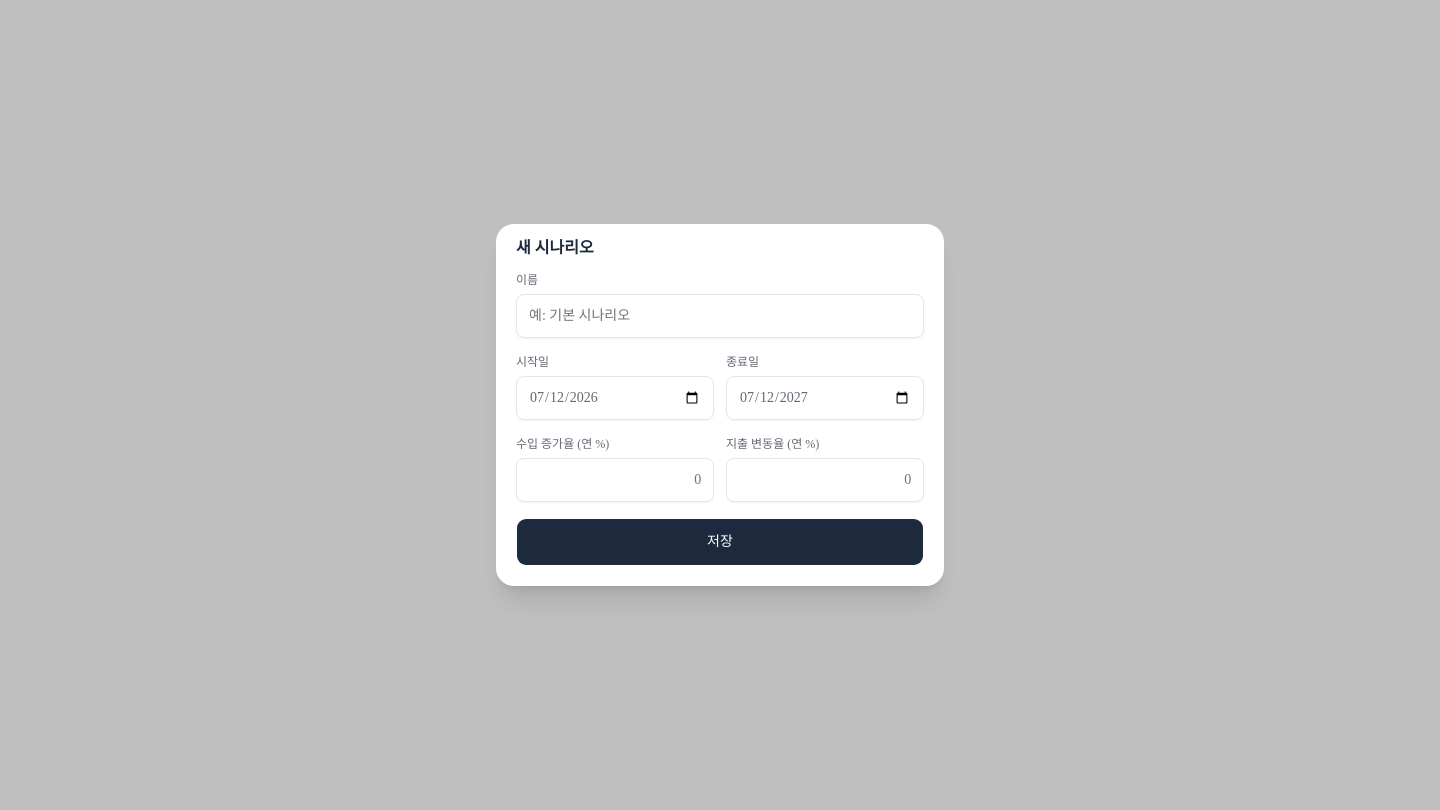
Test case: ScenarioEditorSheet 폼 파싱 › 숫자 외 문자는 증가율 입력에서 걸러진다
This screenshot has width=1440, height=810.
In the field with test id "scenario-income-rate-input": (615, 480) [516,458,714,502], type "abc3%"
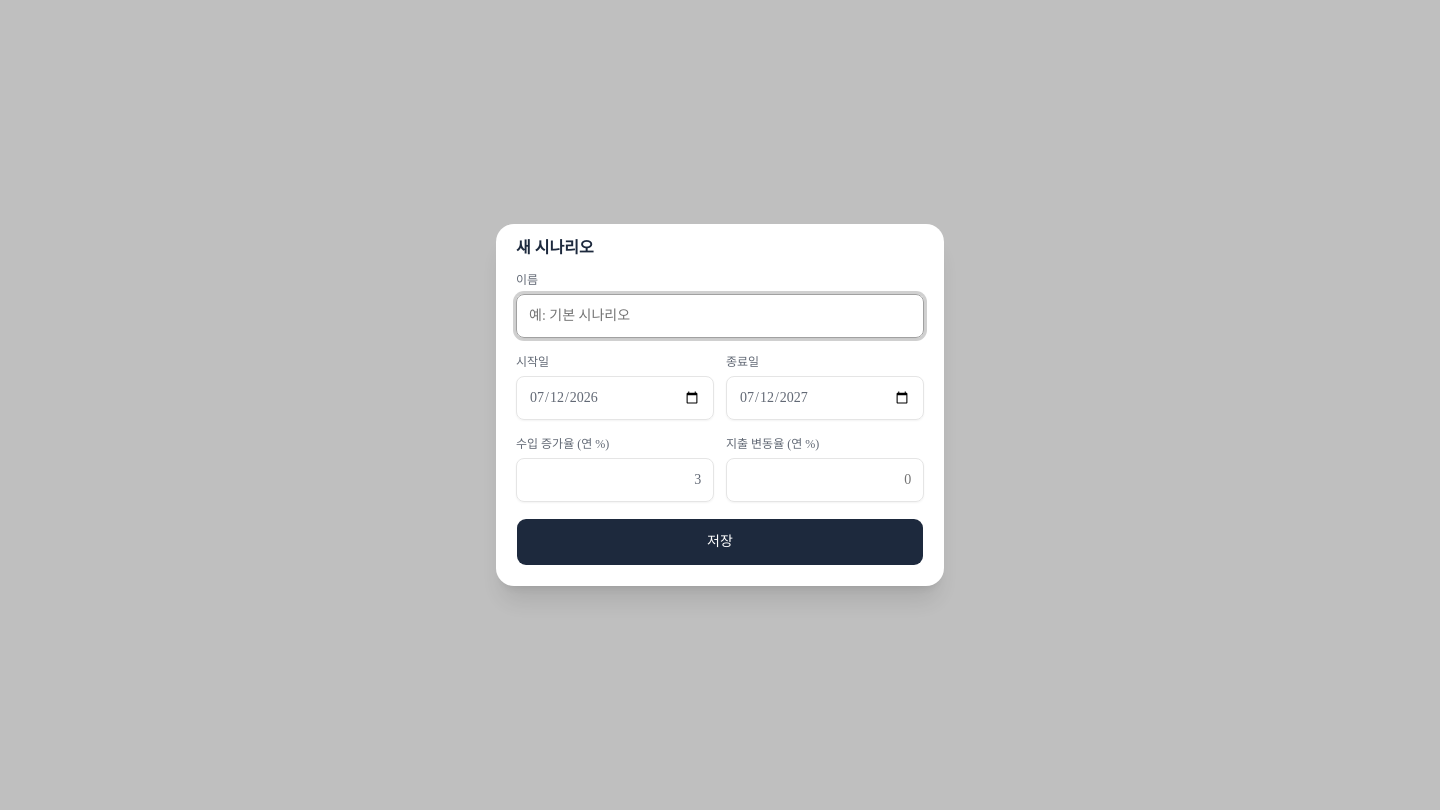
Expected: the field with test id "scenario-income-rate-input" holds "3", [516,458,714,502]
